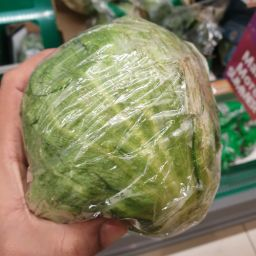Lettuce: (25, 21, 225, 239), (64, 58, 196, 208)
